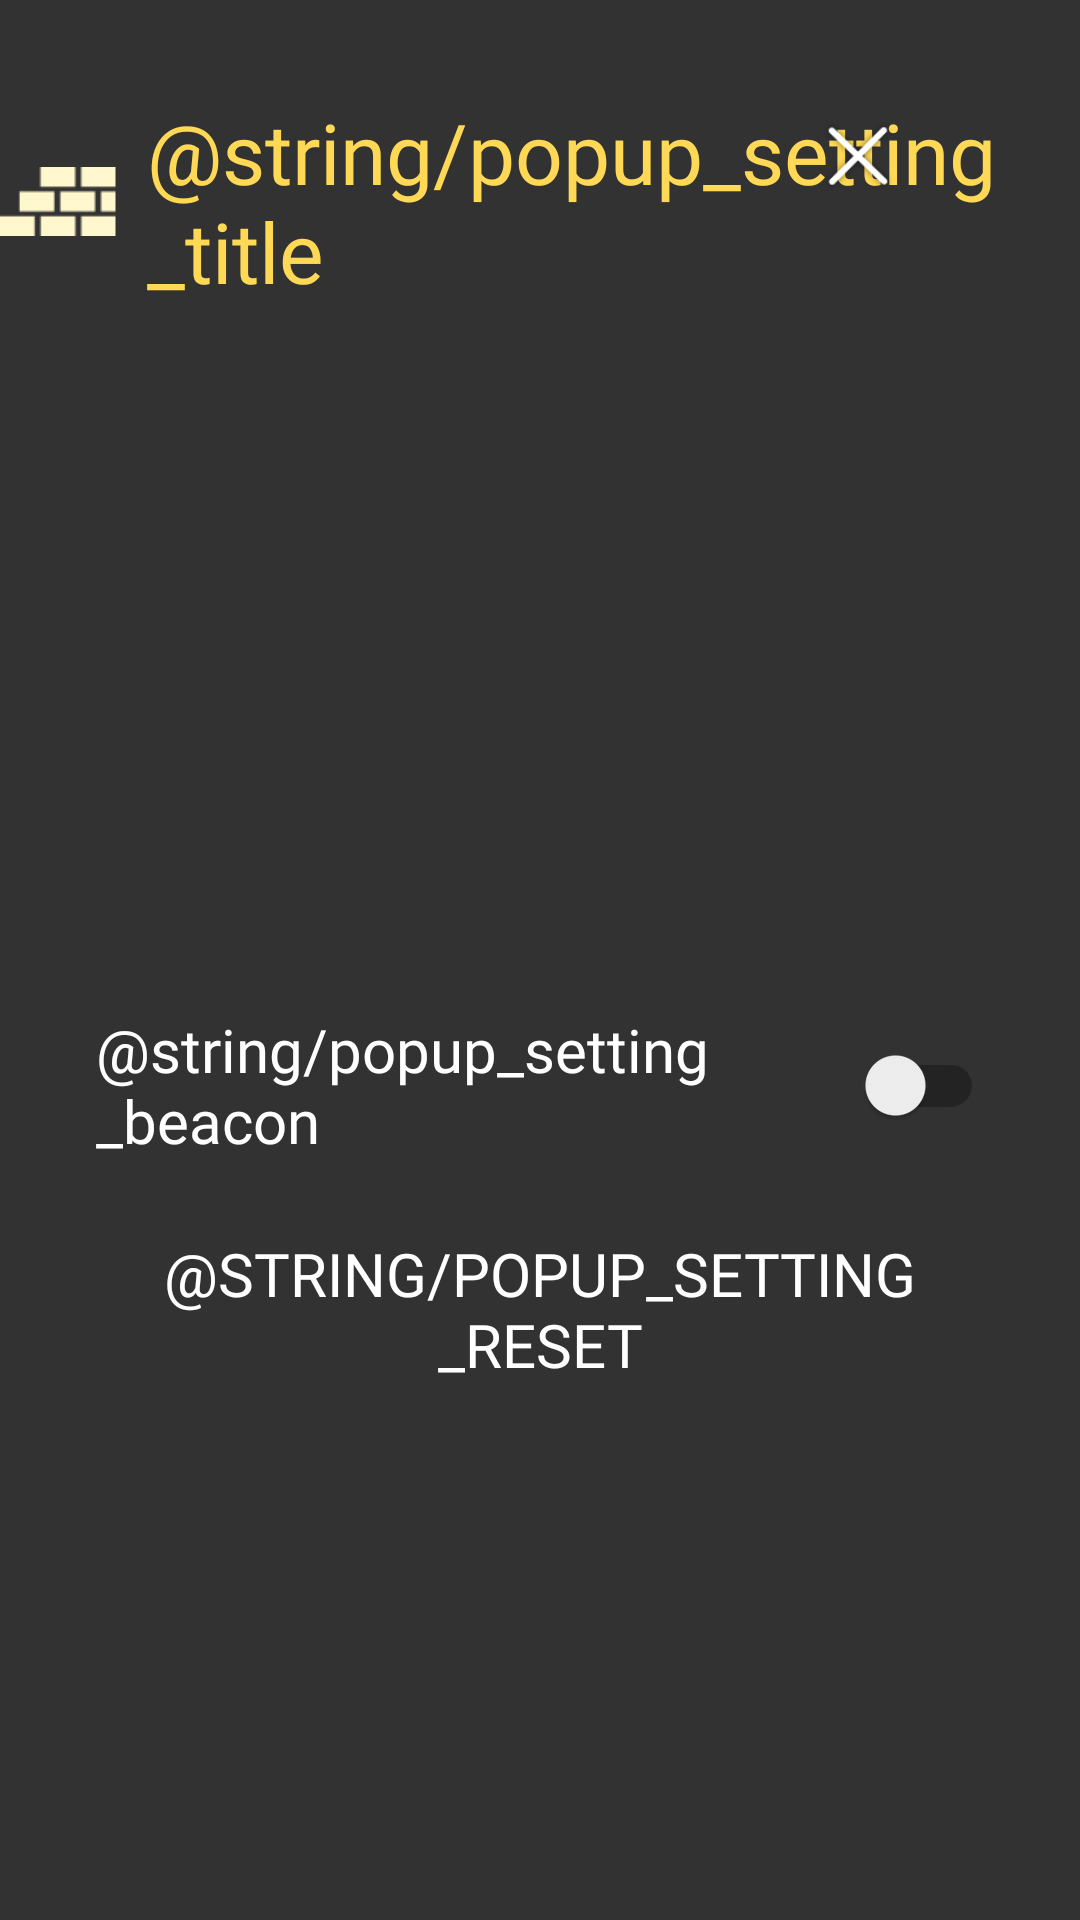

Where to tap for icons on this 1080×1920 app screen, as (x,y):
brick left: (58,201)
close: (861,155)
